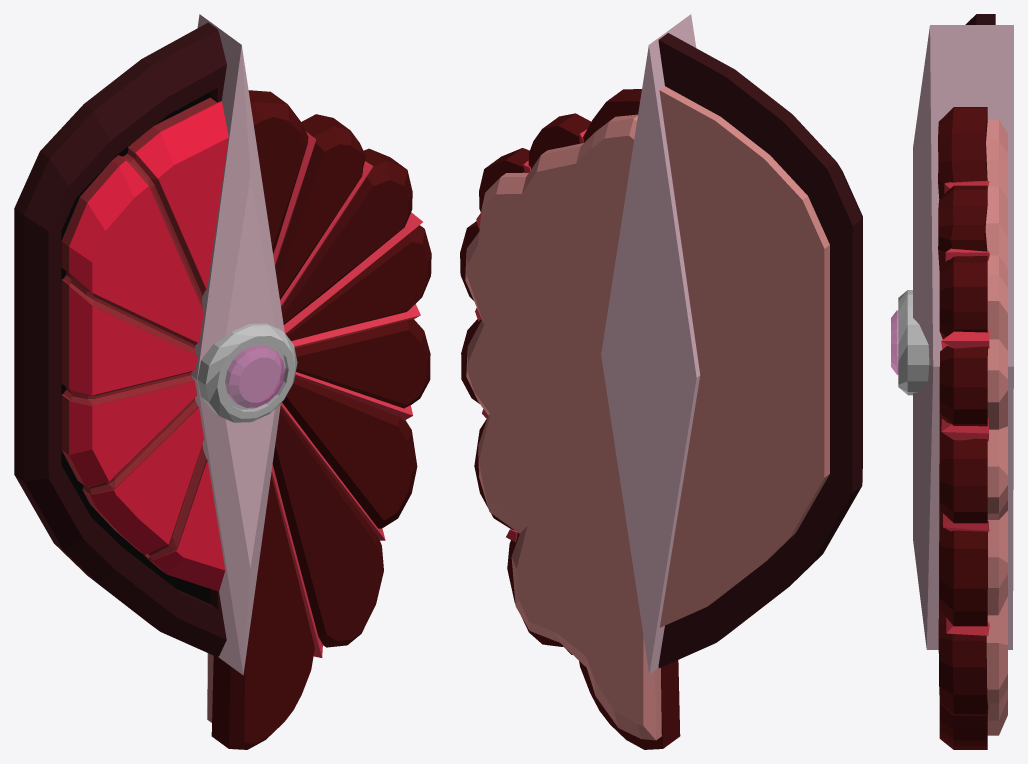
The model's file is Hollow.glb.
The picture shows the model from 3 angles, left to right: view 1: azimuth 30°, elevation 25°; view 2: azimuth 150°, elevation 25°; view 3: azimuth 270°, elevation 25°; orthographic projection.
Parts seen in each view (by area): view 1: Engraved Left, Left Out, Cube.005, Petal 2, Petal 1, Petal 3, Petal 6, Petal 4, Gem Set, Petal 7, Petal 5, Petal 8 (+8 smaller); view 2: Cube, Base, Cube.005, Left Out, Petal 1, Petal 7, Petal 8, Petal 6; view 3: Cube.005, Cube, Petal 3, Petal 2, Petal 4, Petal 5, Petal 6, Petal 8, Petal 7, Gem Set, Petal 1, 5 (+7 smaller).
Boxes of the visible parts, x1=… form: Engraved Left: x1=61, y1=97, x2=228, y2=591; Left Out: x1=14, y1=22, x2=226, y2=657; Cube.005: x1=191, y1=14, x2=284, y2=675; Petal 2: x1=272, y1=407, x2=383, y2=647; Petal 1: x1=211, y1=475, x2=314, y2=749; Petal 3: x1=282, y1=377, x2=417, y2=528; Petal 6: x1=281, y1=148, x2=412, y2=324; Petal 4: x1=294, y1=319, x2=430, y2=408; Gem Set: x1=197, y1=323, x2=297, y2=422; Petal 7: x1=275, y1=114, x2=365, y2=299; Petal 5: x1=286, y1=225, x2=431, y2=340; Petal 8: x1=248, y1=90, x2=308, y2=253; Cube: x1=465, y1=114, x2=661, y2=740; Base: x1=659, y1=86, x2=829, y2=627; Cube.005: x1=601, y1=14, x2=700, y2=674; Left Out: x1=658, y1=33, x2=862, y2=668; Petal 1: x1=579, y1=660, x2=680, y2=749; Petal 7: x1=528, y1=113, x2=590, y2=169; Petal 8: x1=582, y1=89, x2=641, y2=142; Petal 6: x1=479, y1=148, x2=529, y2=211; Cube.005: x1=913, y1=25, x2=1013, y2=649; Cube: x1=985, y1=120, x2=1007, y2=735; Petal 3: x1=939, y1=510, x2=987, y2=626; Petal 2: x1=938, y1=464, x2=988, y2=715; Petal 4: x1=939, y1=416, x2=987, y2=523; Petal 5: x1=939, y1=346, x2=988, y2=426; Petal 6: x1=939, y1=256, x2=987, y2=339; Petal 8: x1=938, y1=107, x2=987, y2=198; Petal 7: x1=938, y1=185, x2=987, y2=270; Gem Set: x1=898, y1=290, x2=929, y2=395; Petal 1: x1=939, y1=702, x2=987, y2=749; 5: x1=941, y1=329, x2=989, y2=349.
Bounding box in the file's own units: 3.07 × 5.31 × 0.8302.
